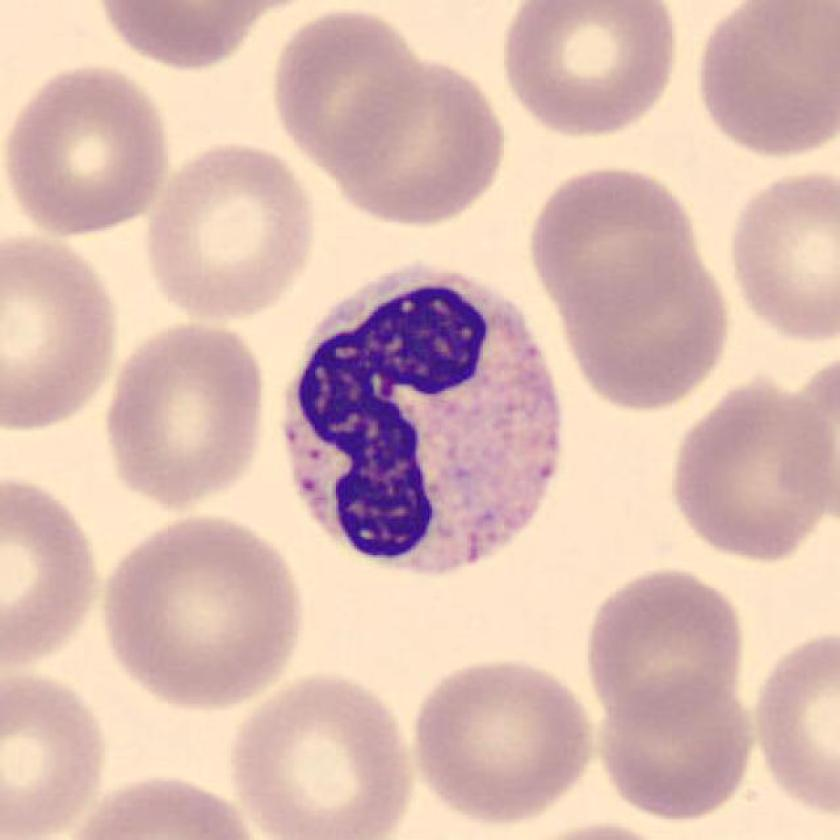neutrophil: (282, 268, 561, 575)
